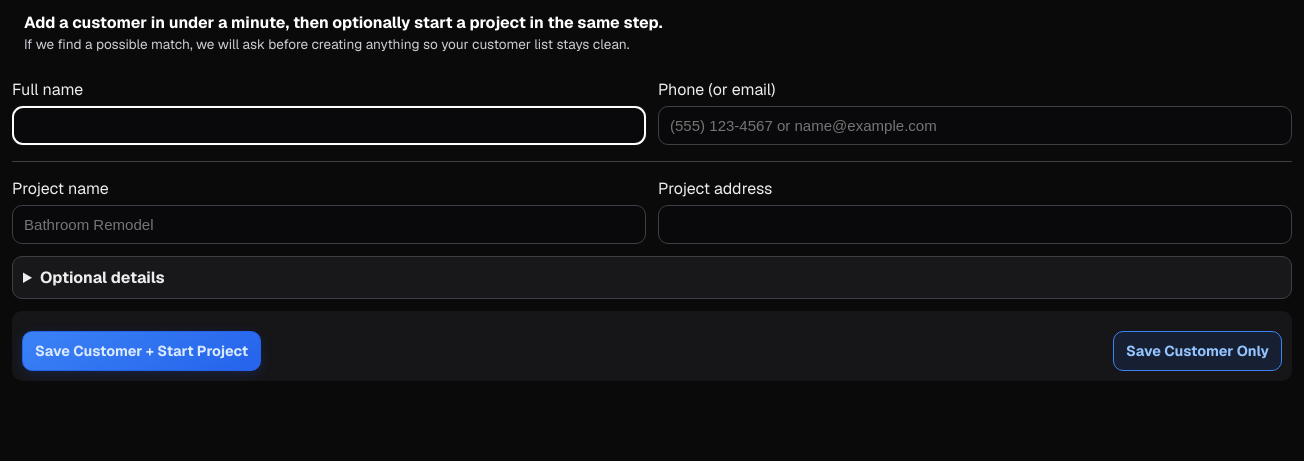
QuickAddConsole › shows validation errors on empty submission
This screenshot has width=1304, height=461.
Click the button "Save Customer Only" at (1198, 351), box [1113, 331, 1282, 371]
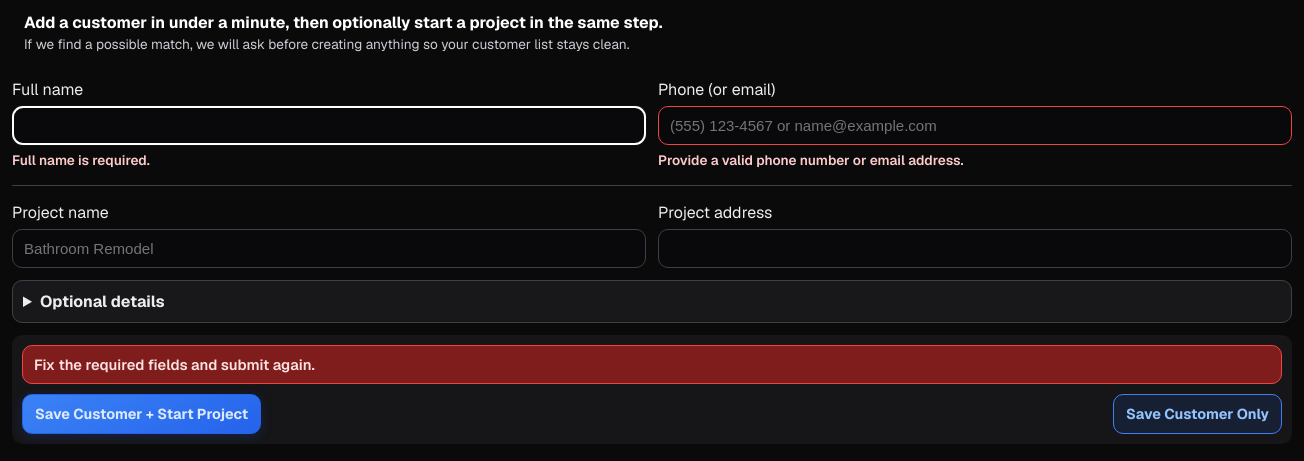
Expected: the text "Fix the required fields and submit again." is shown, [22, 345, 1282, 384]
Expected: the text "Full name is required." is shown, [12, 151, 150, 169]
Expected: the text "Provide a valid phone number or email address." is shown, [658, 151, 964, 169]
